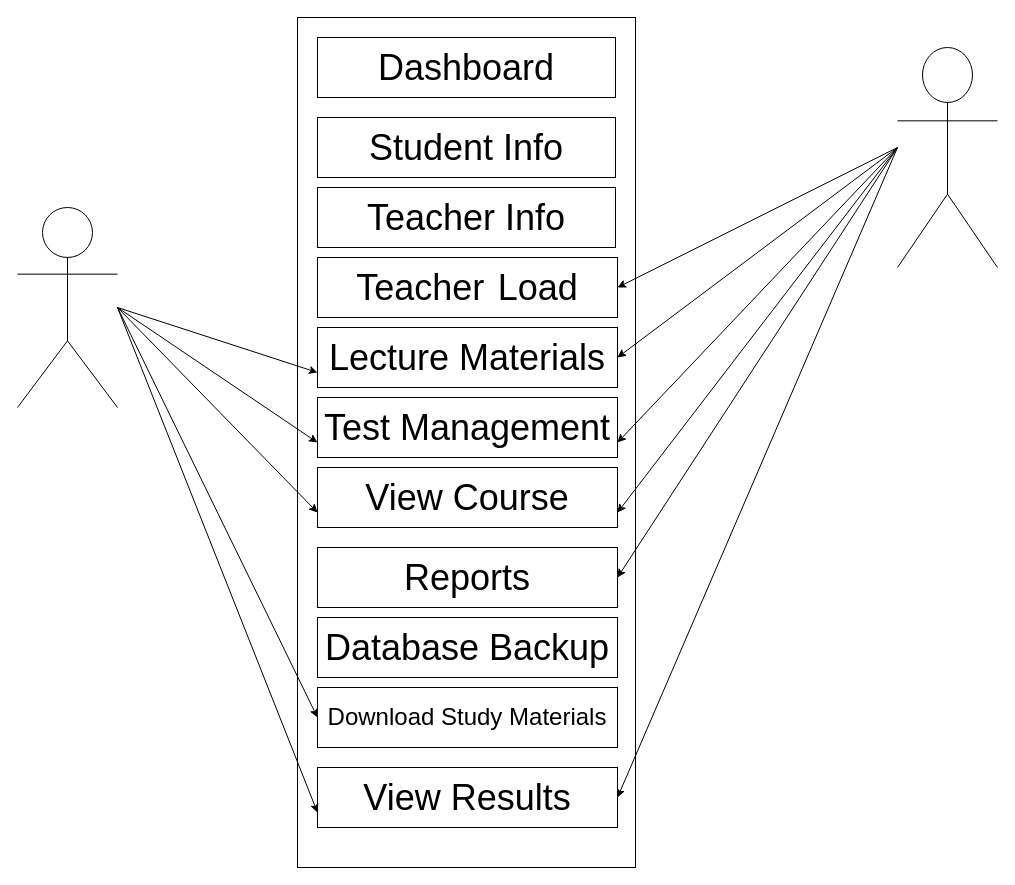
Image size: 1015x885. Some labels were removed from this diagram. Each missing label, with the box of its shape:
Student: (16, 206, 118, 408)
Teacher: (896, 46, 998, 268)
